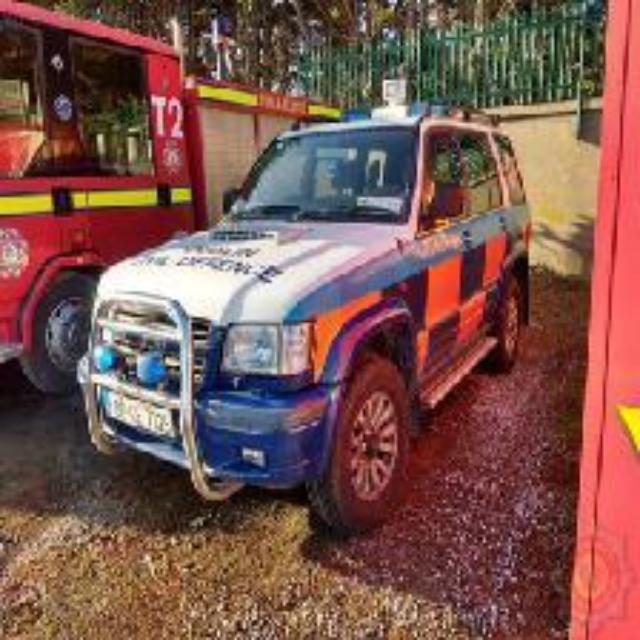emergency: (86, 109, 532, 514), (0, 1, 374, 392)
